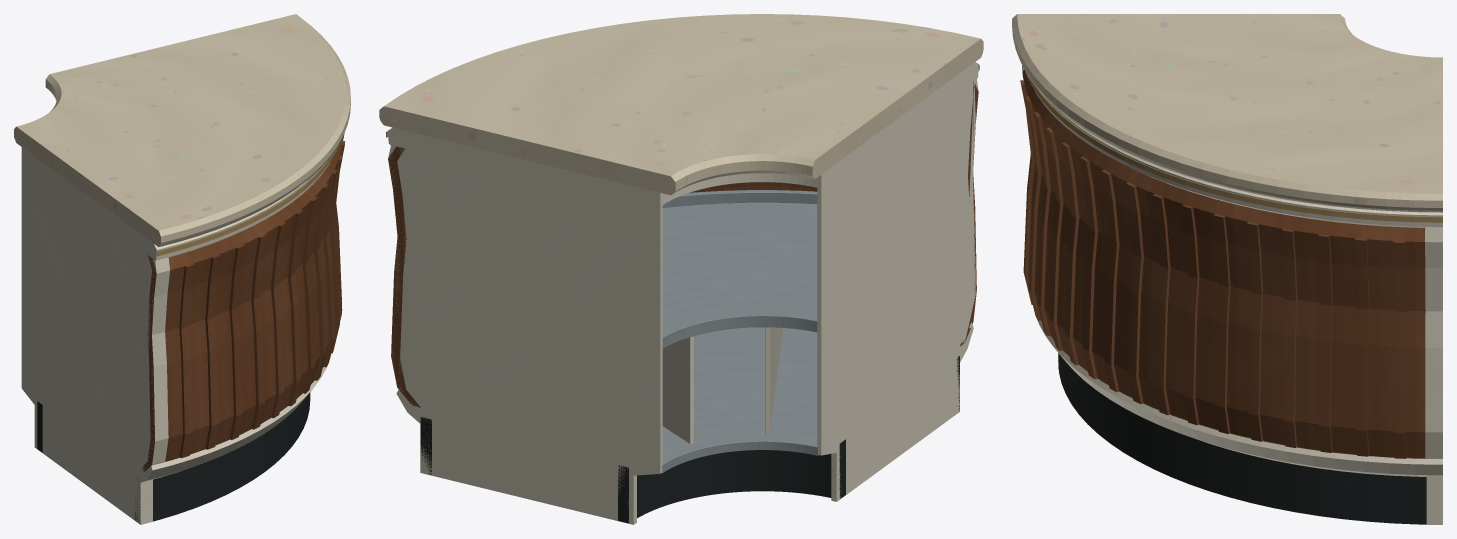
The model's file is AST-HSP-002.glb.
3 views of the same model, side by side, from view 1: azimuth 30°, elevation 25°; view 2: azimuth 150°, elevation 25°; view 3: azimuth 270°, elevation 25° (orthographic). The views are drawn at different scales.
Parts seen in each view (by area): view 1: AST-HSP-002__static__warm_stone, AST-HSP-002__static__ivory_enamel, AST-HSP-002__static__warm_walnut, AST-HSP-002__static__dark_rubber, AST-HSP-002__static__champagne_metal; view 2: AST-HSP-002__static__ivory_enamel, AST-HSP-002__static__warm_stone, AST-HSP-002__curved_removable_shelf__staff_zinc, AST-HSP-002__static__staff_zinc, AST-HSP-002__static__dark_rubber, AST-HSP-002__static__warm_walnut; view 3: AST-HSP-002__static__warm_walnut, AST-HSP-002__static__warm_stone, AST-HSP-002__static__dark_rubber, AST-HSP-002__static__ivory_enamel, AST-HSP-002__static__champagne_metal.
Boxes of the visible parts, box(x1,y1,x2,y2) form: AST-HSP-002__static__warm_stone: box(14, 14, 350, 246); AST-HSP-002__static__ivory_enamel: box(21, 147, 331, 524); AST-HSP-002__static__warm_walnut: box(142, 133, 345, 471); AST-HSP-002__static__dark_rubber: box(37, 392, 310, 522); AST-HSP-002__static__champagne_metal: box(157, 142, 339, 256); AST-HSP-002__static__ivory_enamel: box(387, 62, 978, 524); AST-HSP-002__static__warm_stone: box(379, 14, 983, 195); AST-HSP-002__curved_removable_shelf__staff_zinc: box(662, 190, 817, 348); AST-HSP-002__static__staff_zinc: box(661, 327, 818, 473); AST-HSP-002__static__dark_rubber: box(420, 356, 959, 523); AST-HSP-002__static__warm_walnut: box(388, 81, 978, 407); AST-HSP-002__static__warm_walnut: box(1020, 69, 1425, 458); AST-HSP-002__static__warm_stone: box(1012, 14, 1442, 212); AST-HSP-002__static__dark_rubber: box(1058, 353, 1426, 524); AST-HSP-002__static__ivory_enamel: box(1022, 65, 1442, 524); AST-HSP-002__static__champagne_metal: box(1024, 69, 1442, 222).
Size of the model in its own units: 1.01 by 0.9 by 1.01.
Materials: 6 (6 with a texture image).
